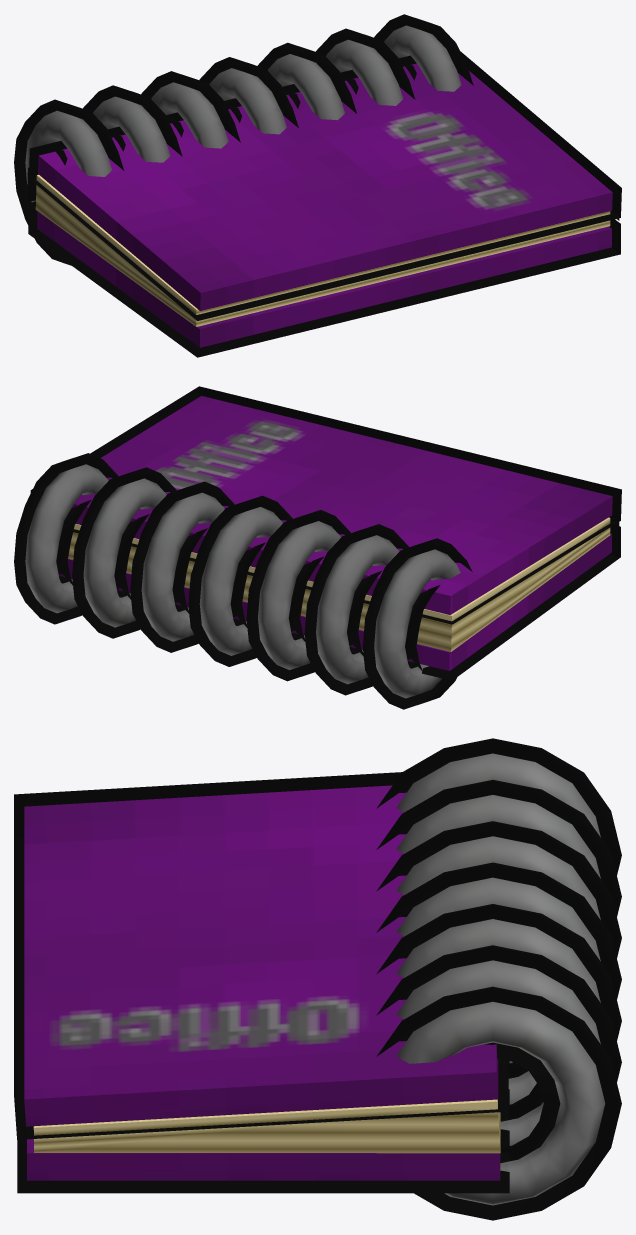
The model's file is Fichario.glb.
3 views of the same model, one above another, from view 1: azimuth 30°, elevation 25°; view 2: azimuth 150°, elevation 25°; view 3: azimuth 270°, elevation 25° (orthographic). The views are drawn at different scales.
Visible parts, largest first — view 1: Fichario; view 2: Fichario; view 3: Fichario.
Boxes of the visible parts, x1=… form: Fichario: x1=14, y1=14, x2=621, y2=357; Fichario: x1=14, y1=386, x2=621, y2=709; Fichario: x1=14, y1=738, x2=621, y2=1220.
Size of the model in its own units: 2.14 by 0.7712 by 1.82.
Materials: 2 (1 with a texture image).
